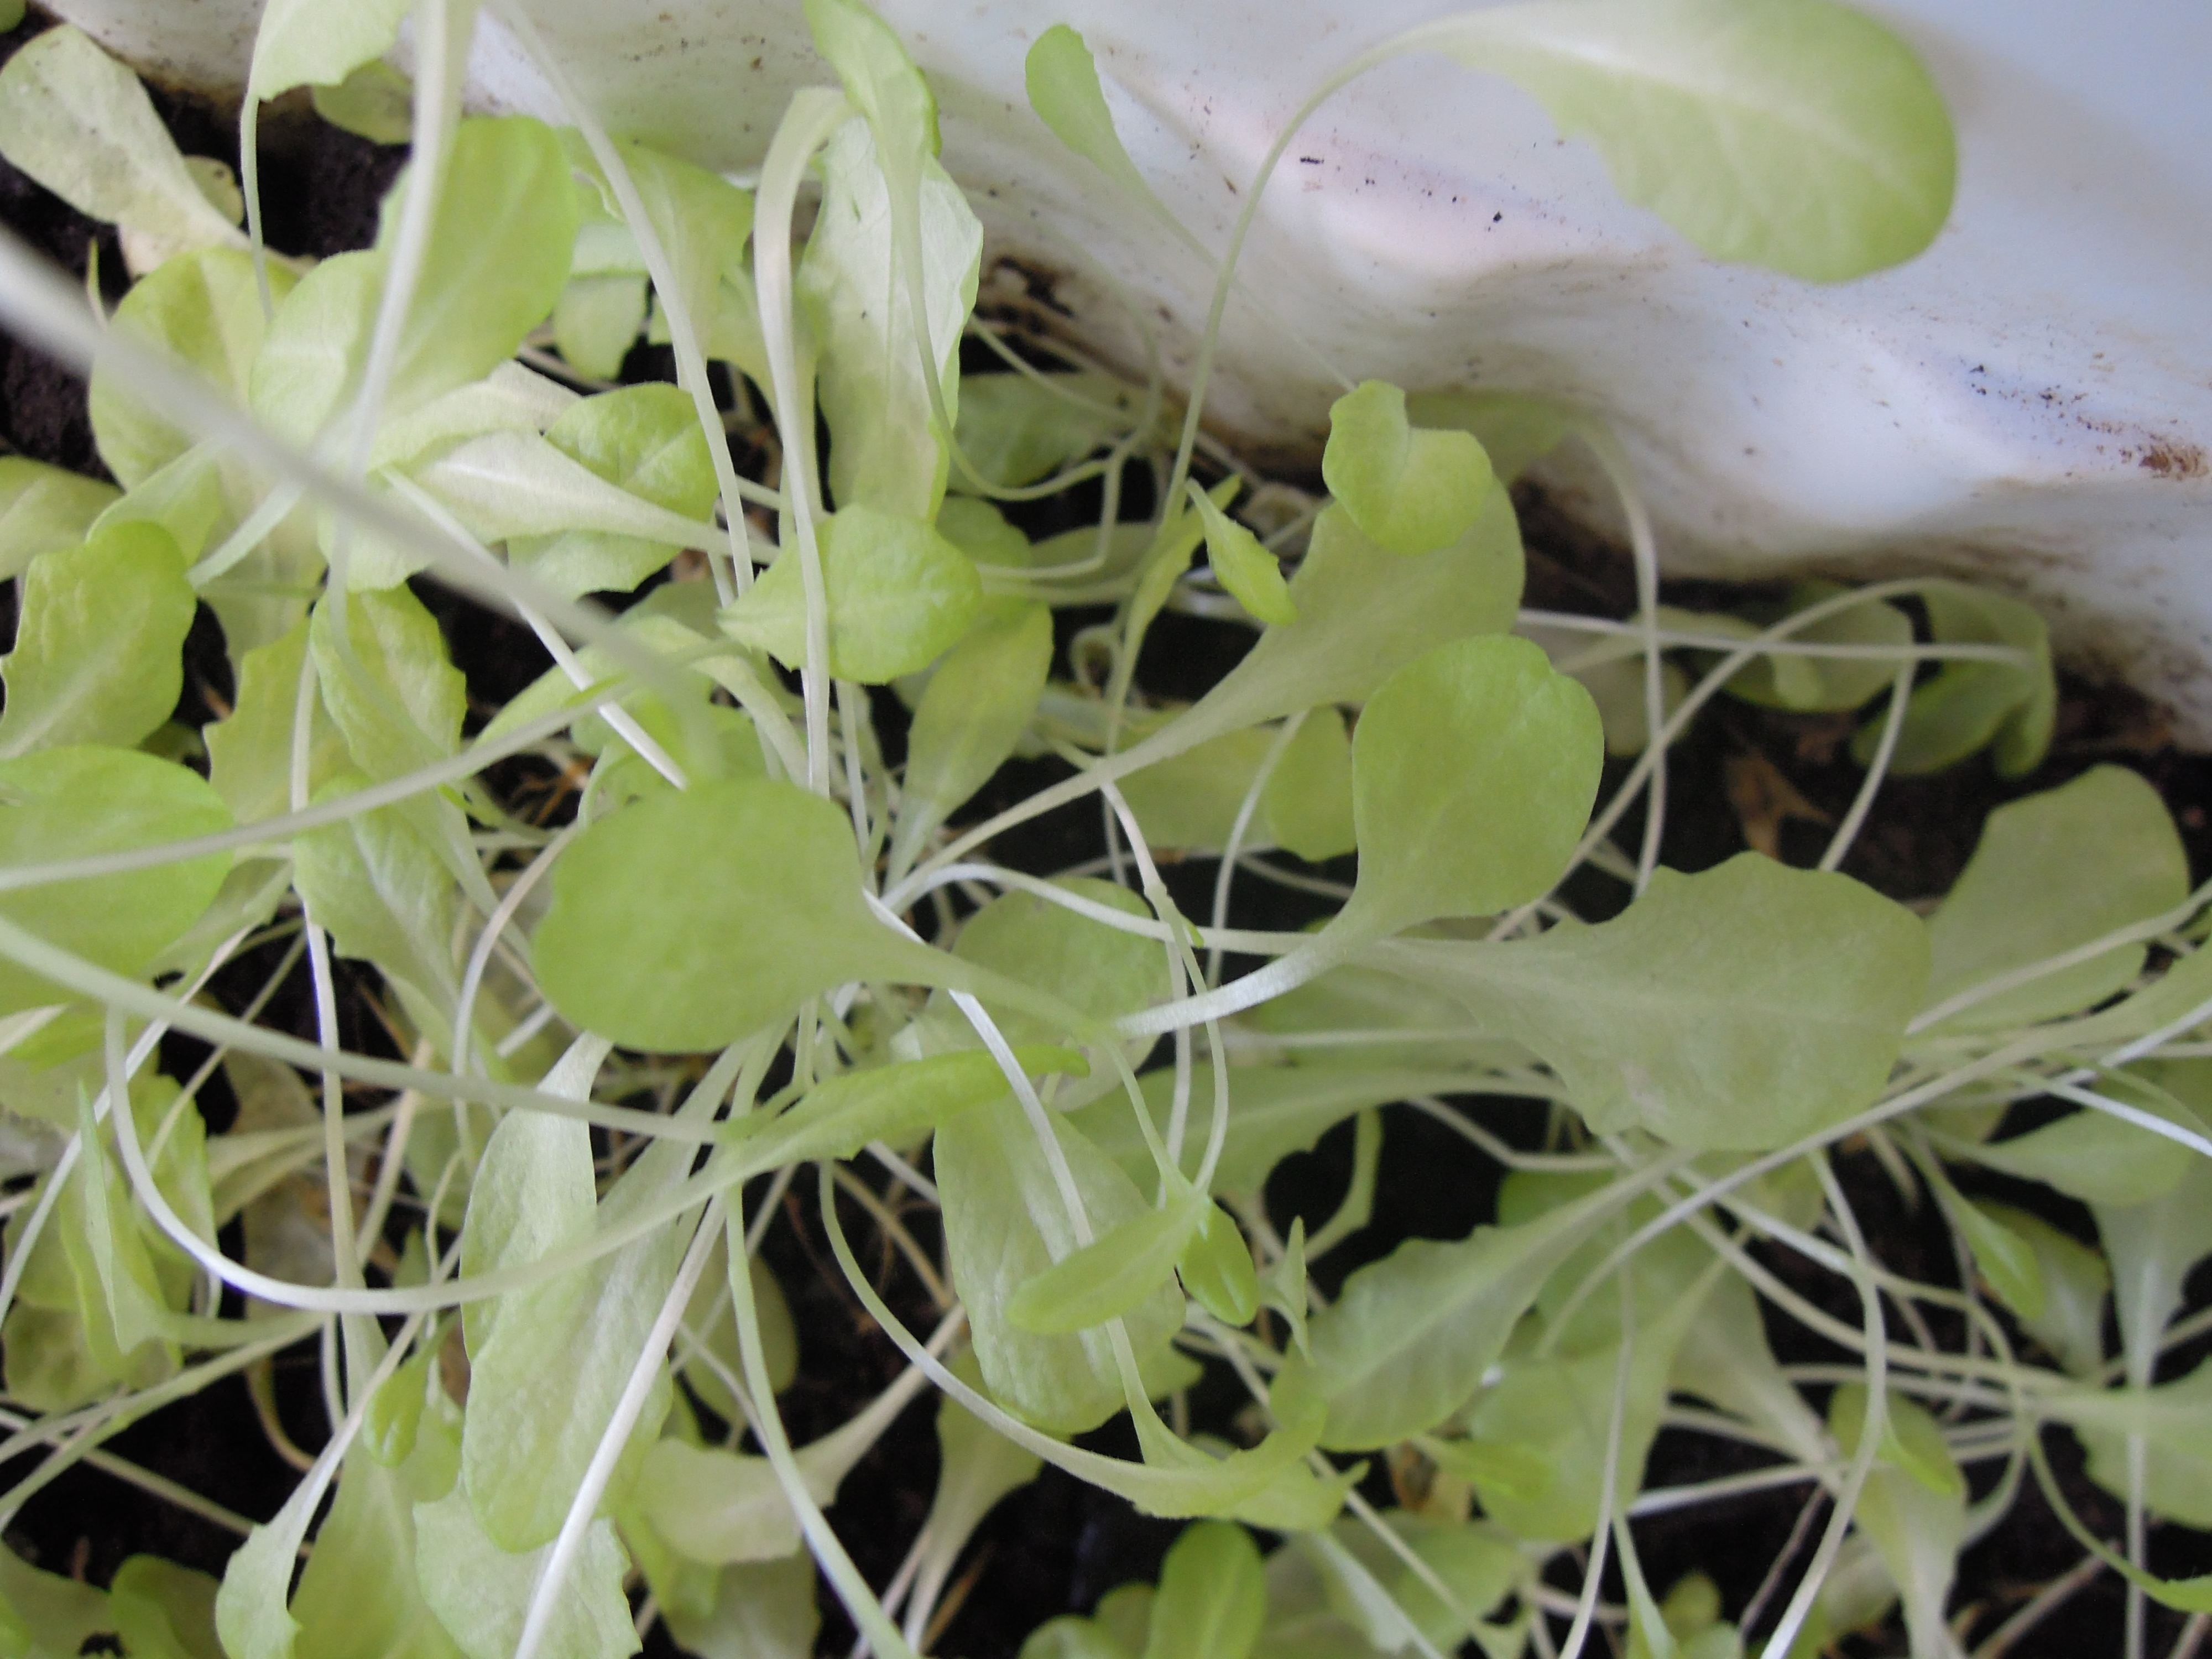weeek6: (488, 16, 2036, 1575)
